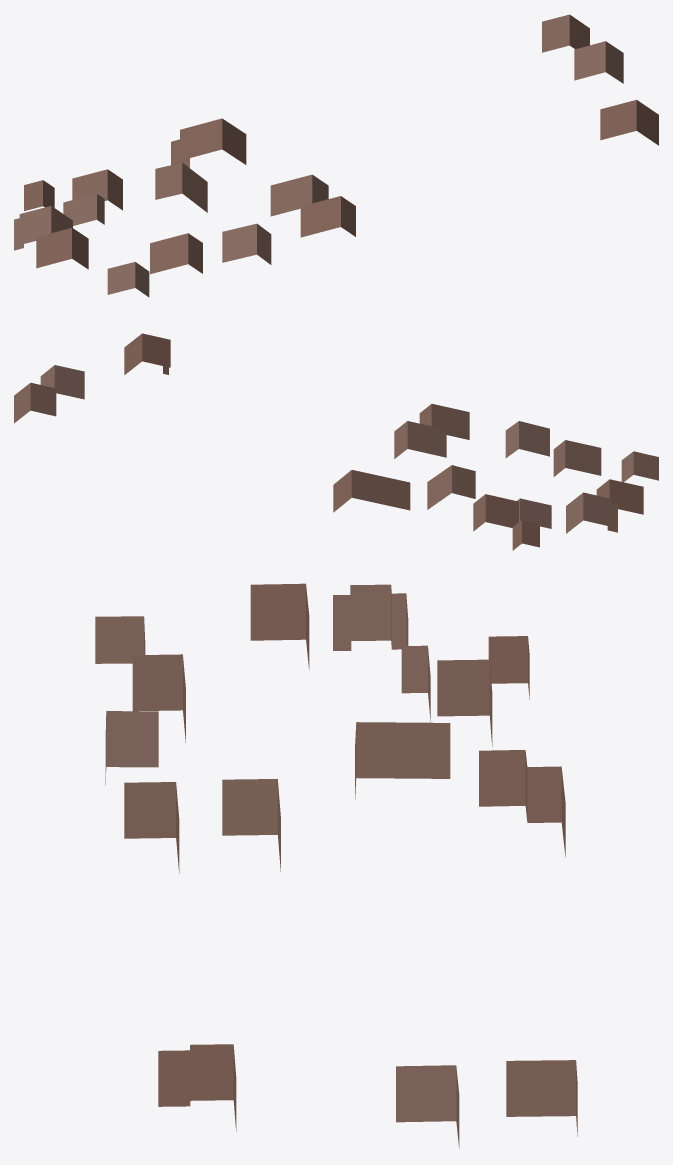
The model's file is c_1636_17819_buildings_residential.glb.
3 renders of one model, top to bottom at view 1: azimuth 30°, elevation 25°; view 2: azimuth 150°, elevation 25°; view 3: azimuth 270°, elevation 25°, orthographic. The views are drawn at different scales.
Visible parts, largest first — view 1: geometry_0; view 2: geometry_0; view 3: geometry_0.
Part boxes in pixels (x1,y1,x2,y2): geometry_0: (14, 14, 658, 297); geometry_0: (14, 333, 658, 550); geometry_0: (95, 583, 577, 1148).
Bounding box in the file's own units: 196 × 15.55 × 74.17.
